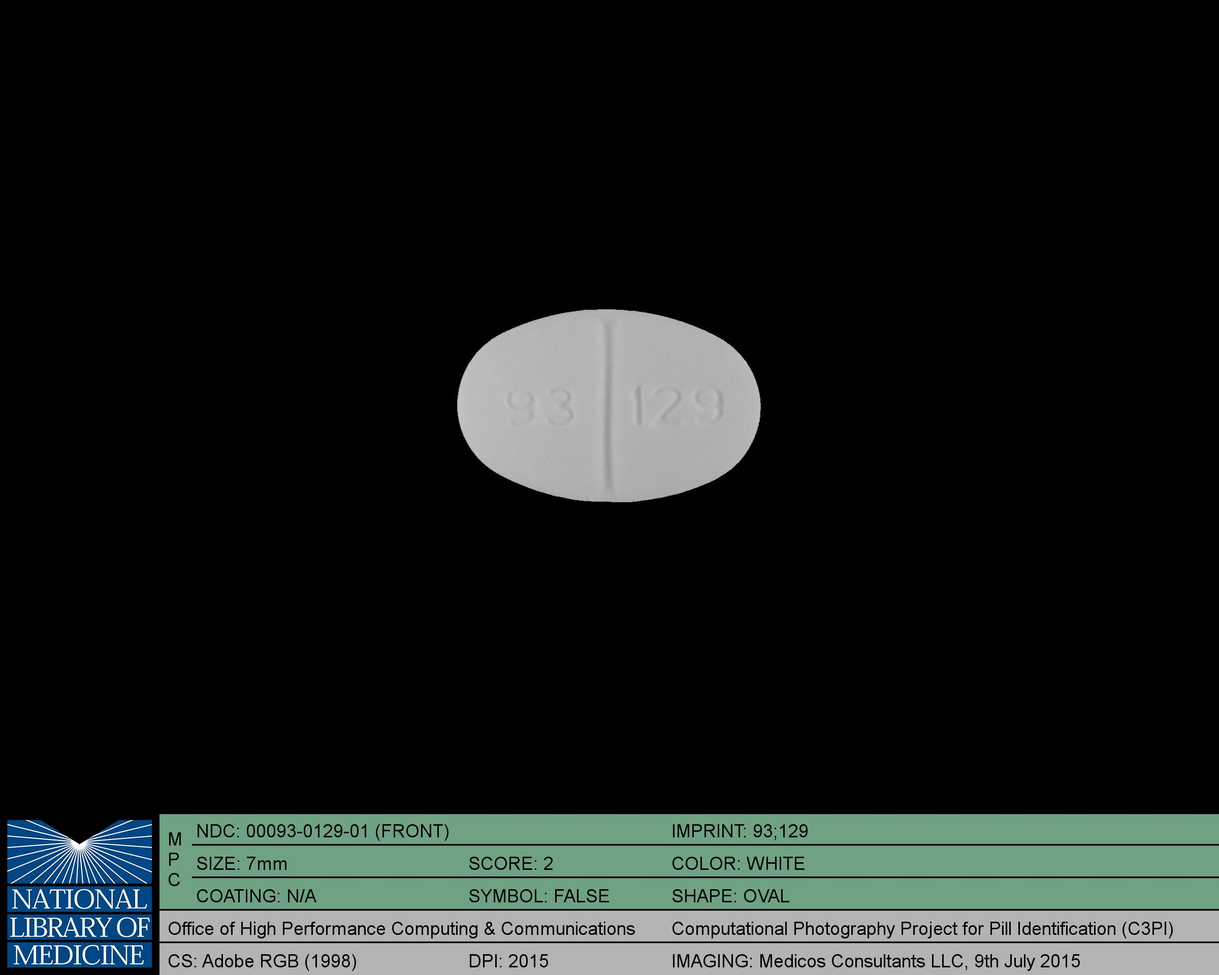Pill: (444, 298, 774, 511)
